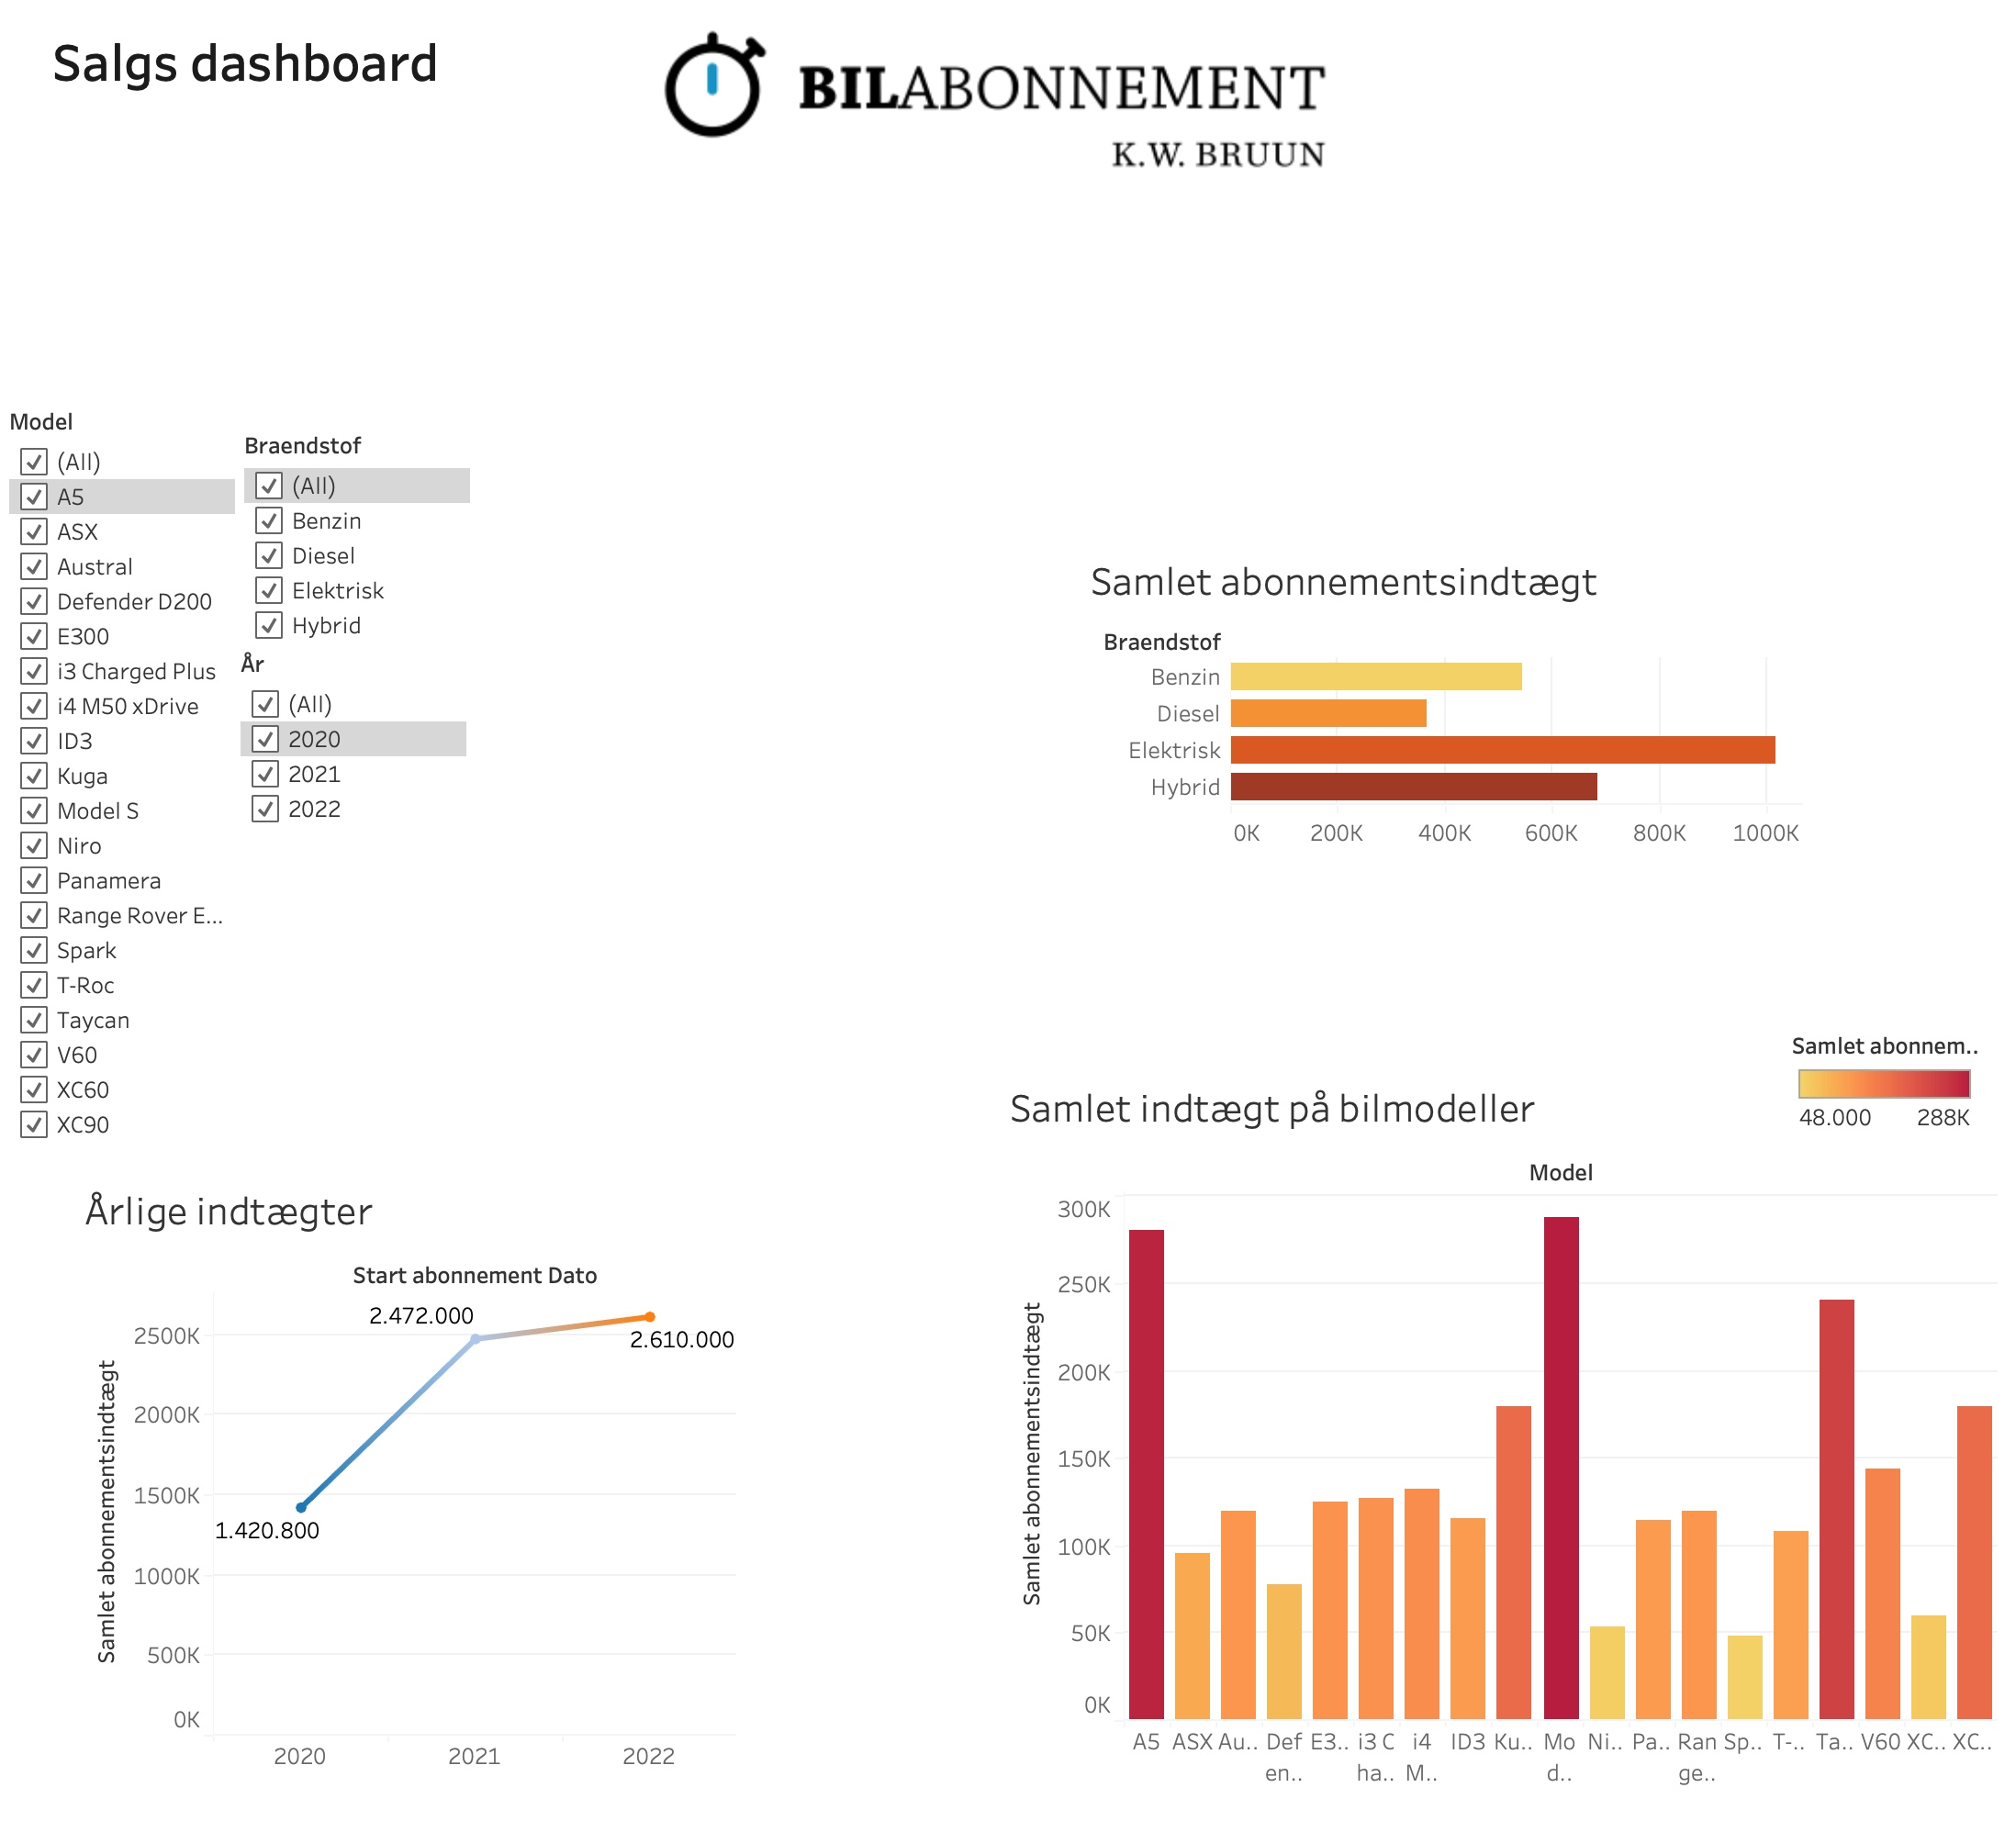

The page's visual inventory and layout, read from the dashboard file:
{"tool":"tableau","page":{"name":"Dashboard 1","canvas":[1100,1000],"ordinal":0},"visuals":[{"type":"text","box":[27.1,17,215.8,44]},{"type":"image","param":"Image/BILABONNEMENT_rgb_mmahqw.png","box":[359.6,20,366.4,333]},{"type":"filter","title":"Sheet 6","param":"[federated.0etjcy50ffqzpf1dpkcmu0r6q8ev].[none:Model:nk]","box":[5.9,227,123.2,412]},{"type":"filter","title":"Sheet 6","param":"[federated.0etjcy50ffqzpf1dpkcmu0r6q8ev].[none:Braendstof:nk]","box":[134.2,240,123.2,127]},{"type":"worksheet","title":"Sheet 4","mark":"Automatic","rows":["Braendstof"],"cols":["Calculation_663929133249351688"],"box":[587,300,400,300]},{"type":"filter","title":"Sheet 6","param":"[federated.0etjcy50ffqzpf1dpkcmu0r6q8ev].[yr:Start abonnement Dato:ok]","box":[130,377,123,108]},{"type":"legend","title":"Sheet 7","param":"[federated.0etjcy50ffqzpf1dpkcmu0r6q8ev].[usr:Calculation_663929133249351688:qk]","box":[977.3,567,102.4,76]},{"type":"worksheet","title":"Sheet 7","mark":"Automatic","rows":["Calculation_663929133249351688"],"cols":["Model"],"box":[542.7,587,550,400]},{"type":"worksheet","title":"Sheet 6","mark":"Automatic","rows":["Calculation_663929133249351688"],"cols":["Start abonnement Dato"],"box":[39.4,642.5,366.7,332.5]}]}

Visuals, with their boxes in screenshot pixels (x1, y1, x2, y2), scaled from the page's 1100x1000 canvas onto the 2016x1821 screenshot:
text: [x1=50, y1=31, x2=445, y2=111]
image: [x1=659, y1=37, x2=1330, y2=642]
"Sheet 6" filter: [x1=11, y1=413, x2=237, y2=1164]
"Sheet 6" filter: [x1=246, y1=437, x2=472, y2=668]
"Sheet 4" worksheet: [x1=1076, y1=546, x2=1809, y2=1092]
"Sheet 6" filter: [x1=239, y1=687, x2=464, y2=883]
"Sheet 7" legend: [x1=1791, y1=1033, x2=1978, y2=1171]
"Sheet 7" worksheet: [x1=994, y1=1069, x2=2002, y2=1797]
"Sheet 6" worksheet: [x1=73, y1=1170, x2=745, y2=1775]
